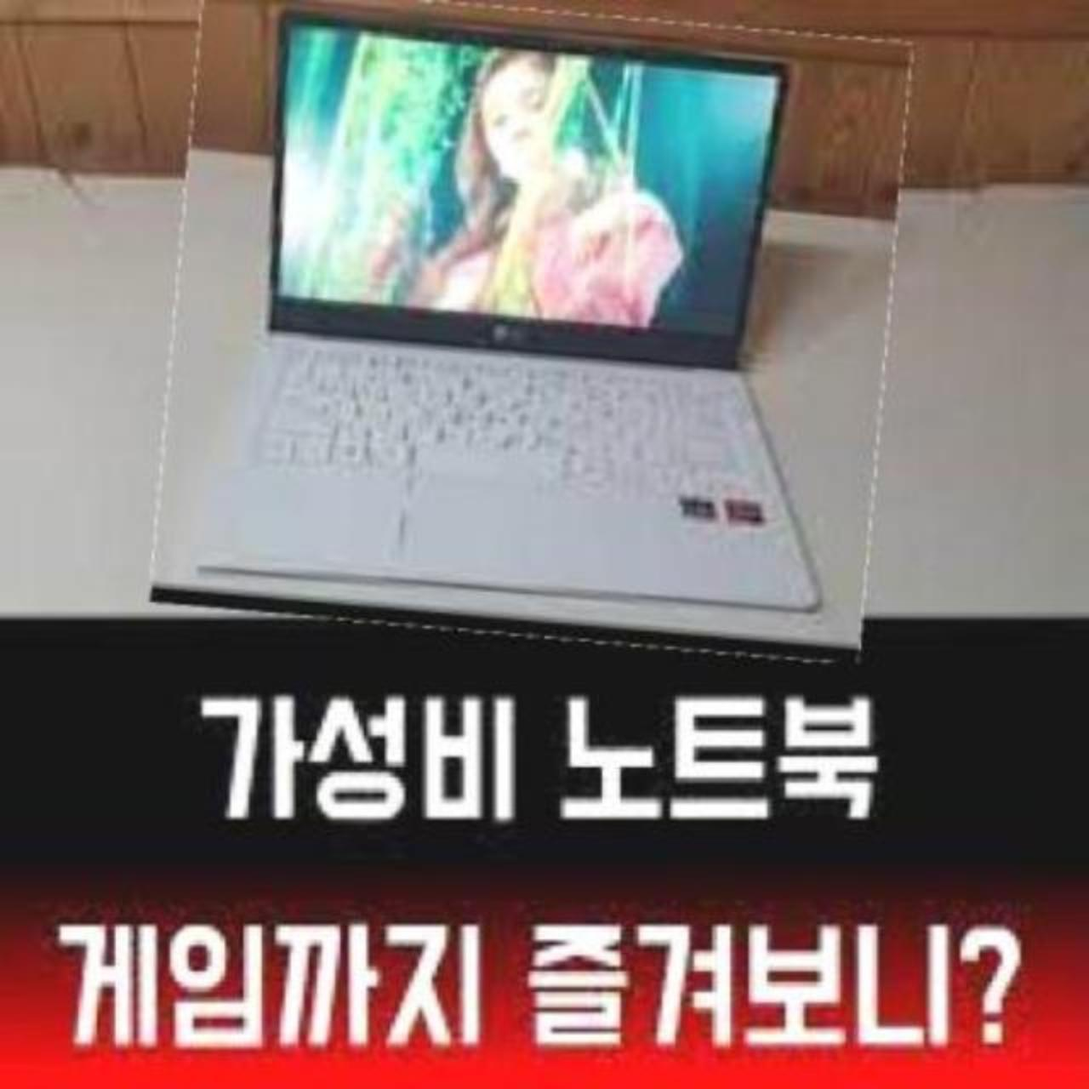laptop: (161, 0, 898, 647)
